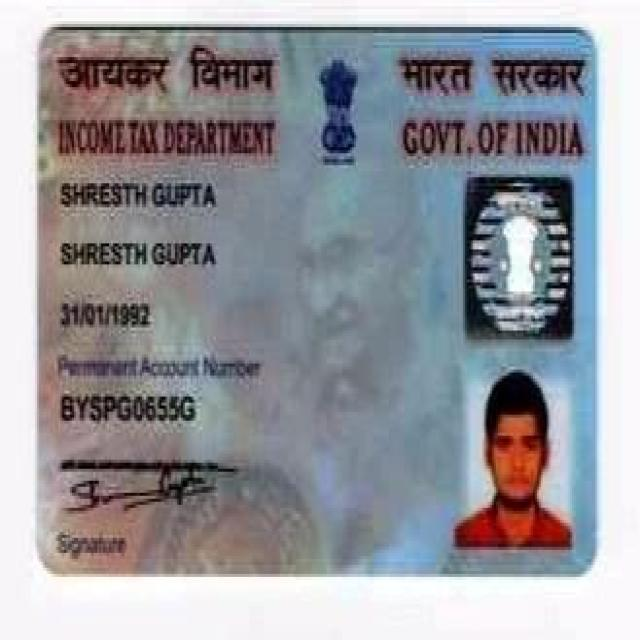pan_card: (41, 37, 593, 567)
